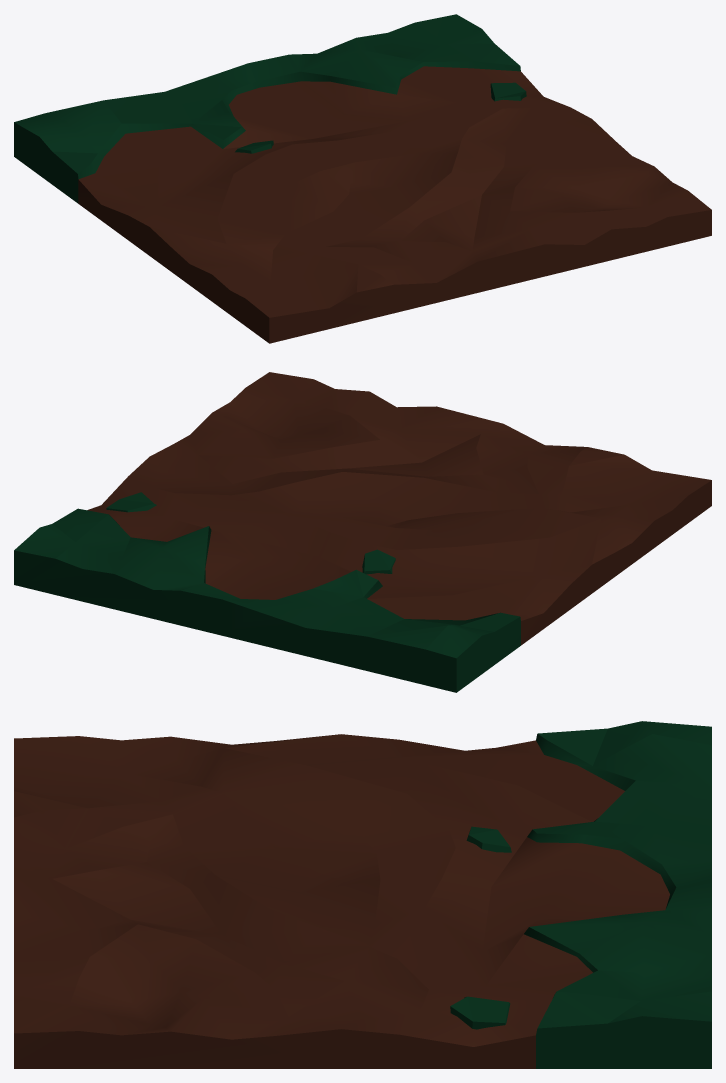
File: Ground_Edge_U.fbx
3 renders of one model, top to bottom at view 1: azimuth 30°, elevation 25°; view 2: azimuth 150°, elevation 25°; view 3: azimuth 270°, elevation 25°, orthographic. The views are drawn at different scales.
Visible parts, largest first — view 1: Ground_Edge_U; view 2: Ground_Edge_U; view 3: Ground_Edge_U.
Boxes of the visible parts, box(x1,y1,x2,y2) form: Ground_Edge_U: box(14, 14, 711, 343); Ground_Edge_U: box(14, 372, 711, 692); Ground_Edge_U: box(14, 721, 711, 1068).
Size of the model in its own units: 147 by 15.12 by 147.
